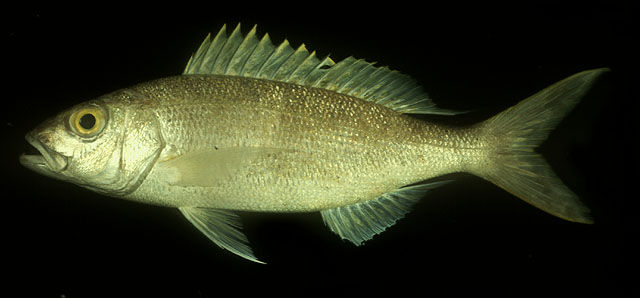fish: (20, 21, 611, 265)
